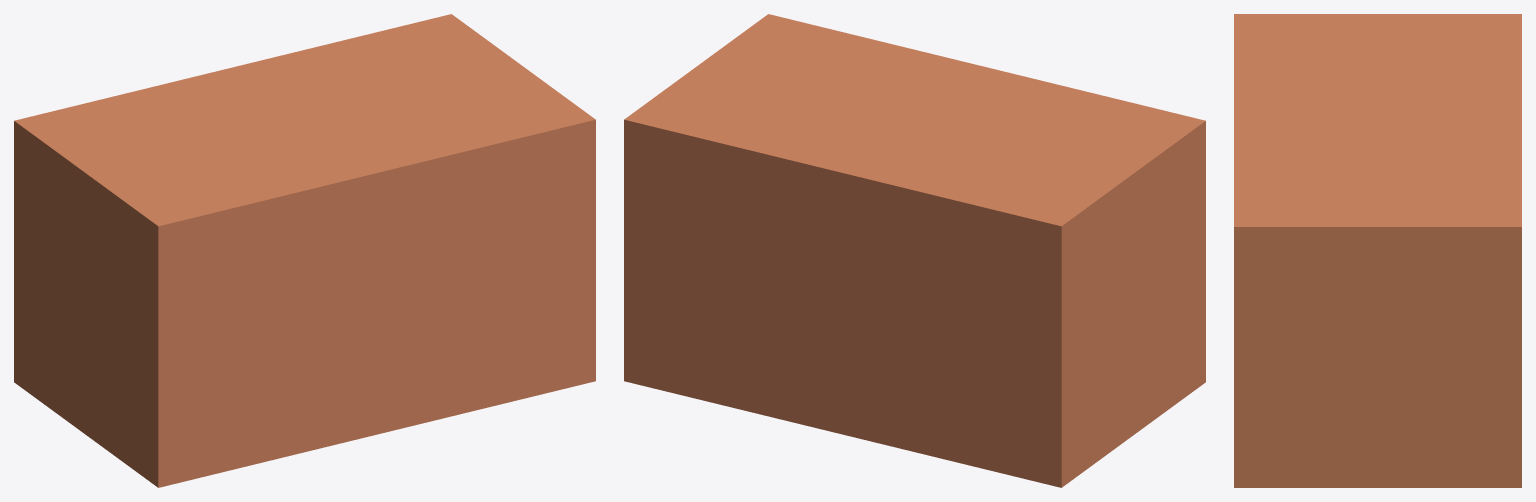
The model's file is ForgeCubeUpdated.glb.
3 views of the same model, side by side, from view 1: azimuth 30°, elevation 25°; view 2: azimuth 150°, elevation 25°; view 3: azimuth 270°, elevation 25° (orthographic).
Parts seen in each view (by area): view 1: Forge Test Bracket; view 2: Forge Test Bracket; view 3: Forge Test Bracket.
Boxes of the visible parts, x1,y1,x2,y2 form: Forge Test Bracket: (14, 14, 595, 487); Forge Test Bracket: (624, 14, 1205, 487); Forge Test Bracket: (1234, 14, 1521, 487).
Bounding box in the file's own units: 3.5 × 2 × 2.
